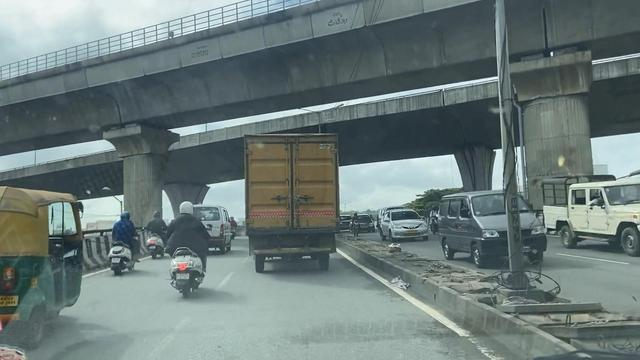HMV: (241, 136, 340, 277)
LMV: (164, 199, 210, 303), (113, 211, 141, 279)
